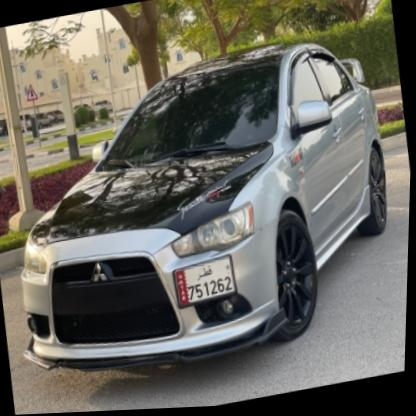np: (168, 251, 242, 312)
